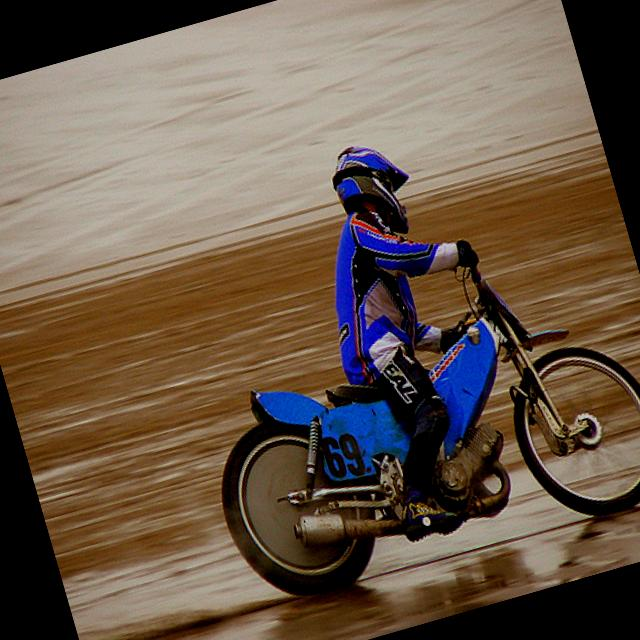Vehicle: (169, 228, 640, 630)
